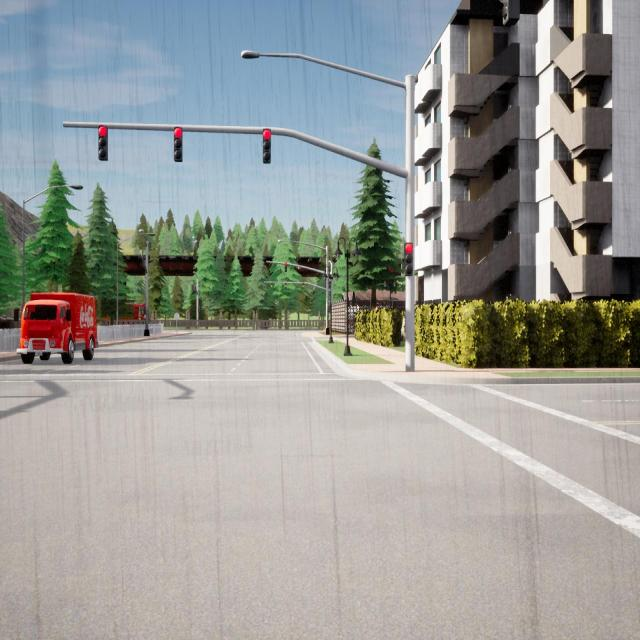Traffic_Signs: (174, 312, 180, 320)
Vehicle: (17, 293, 97, 363), (120, 302, 151, 324)
traffic_light: (500, 0, 520, 26), (401, 240, 413, 279), (98, 125, 109, 162), (262, 128, 272, 164), (174, 126, 182, 162), (285, 262, 287, 272), (193, 286, 195, 293), (285, 282, 287, 288), (270, 283, 272, 288), (302, 283, 304, 288), (192, 284, 193, 292), (196, 287, 197, 293)
